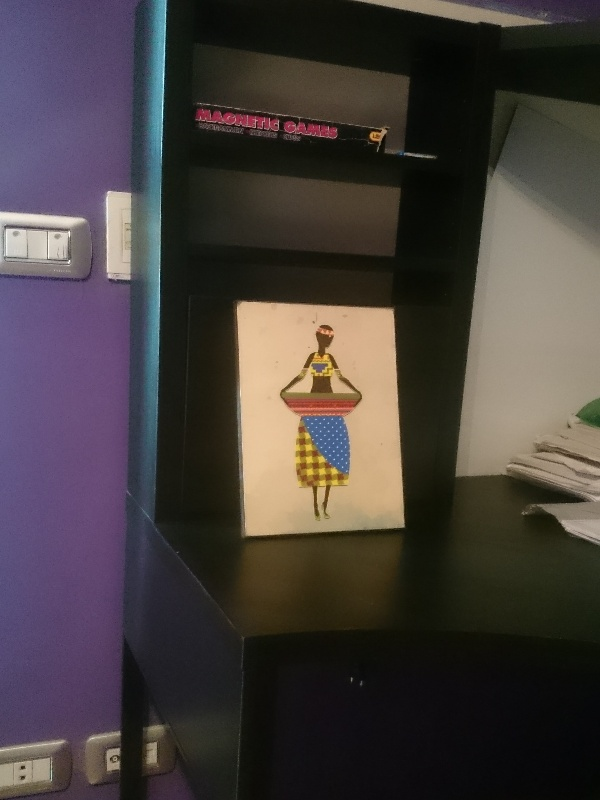my image: (240, 304, 399, 533)
